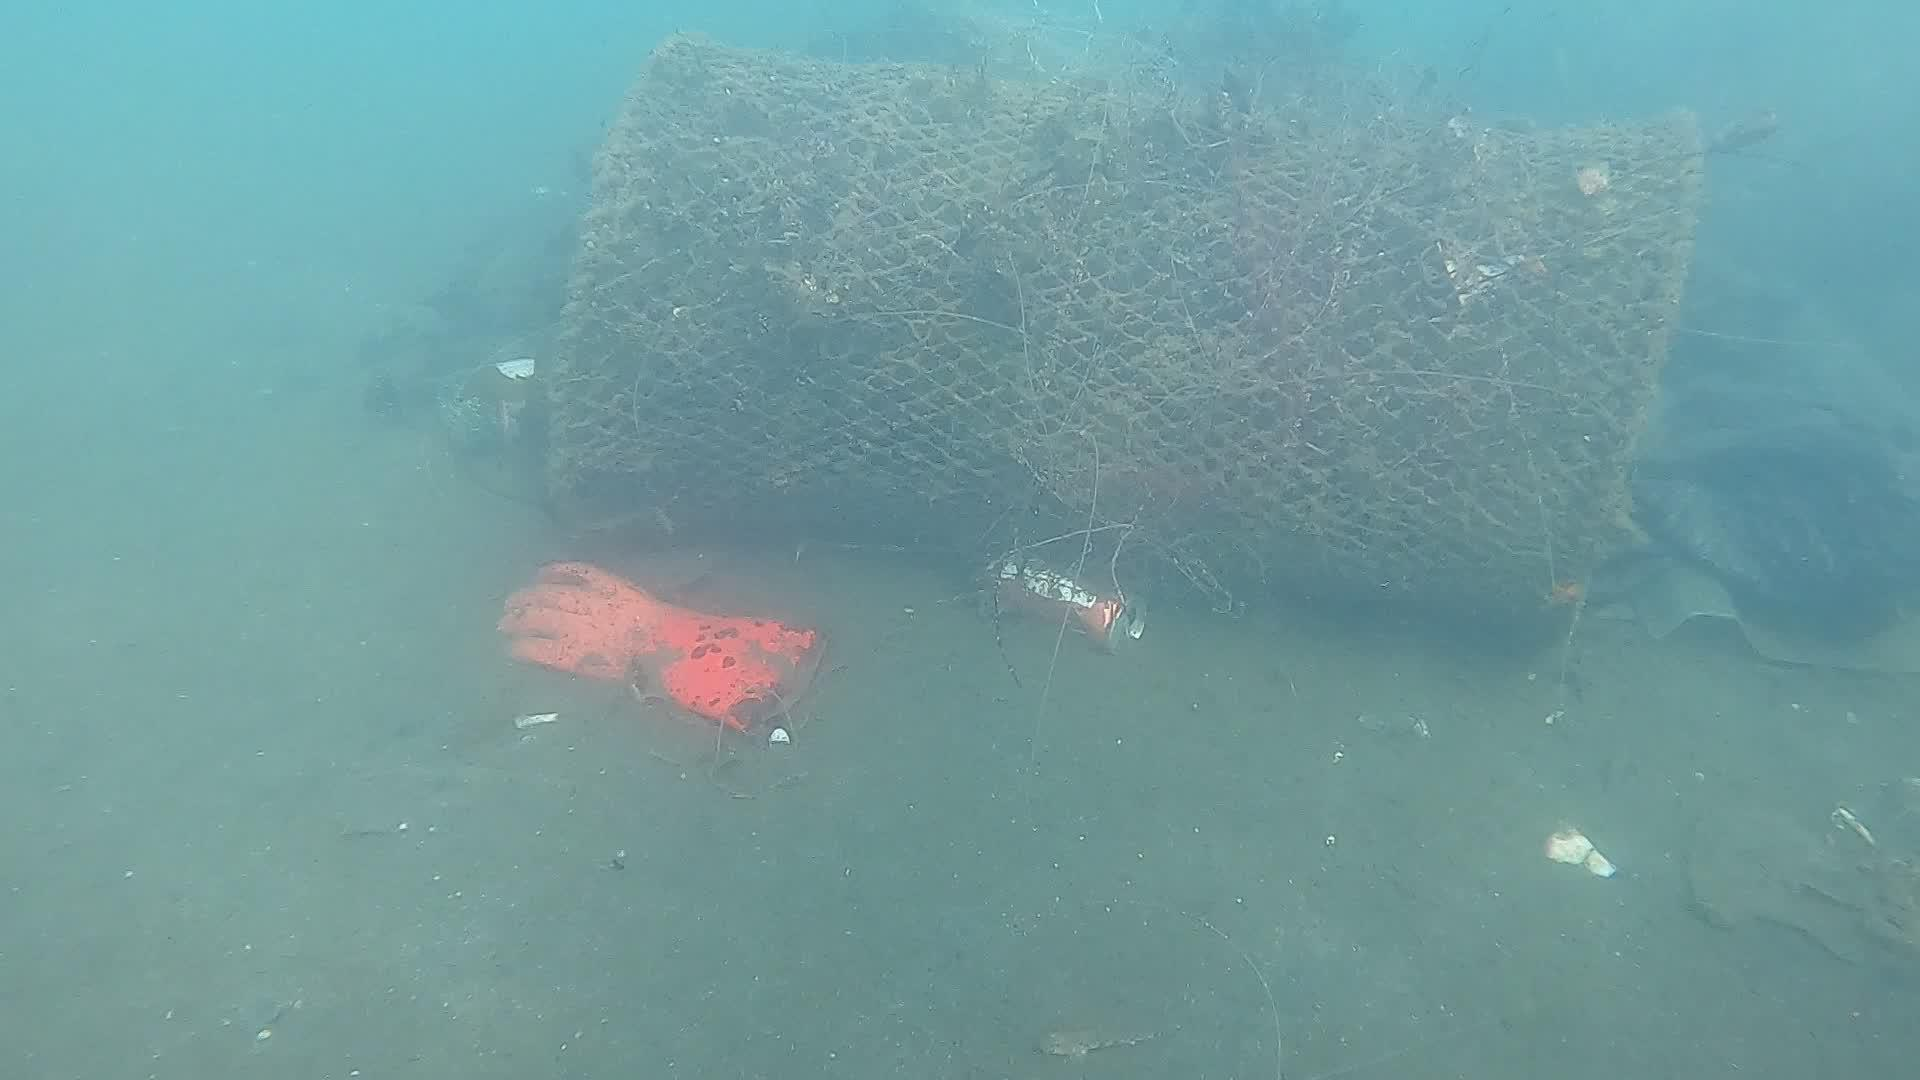spring fish trap: (538, 26, 1706, 625)
